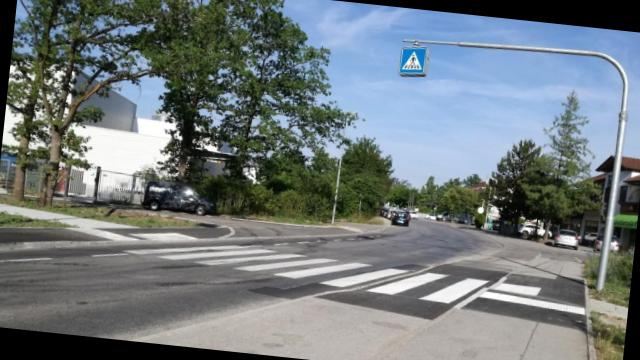crosswalk-sign: (400, 45, 431, 80)
